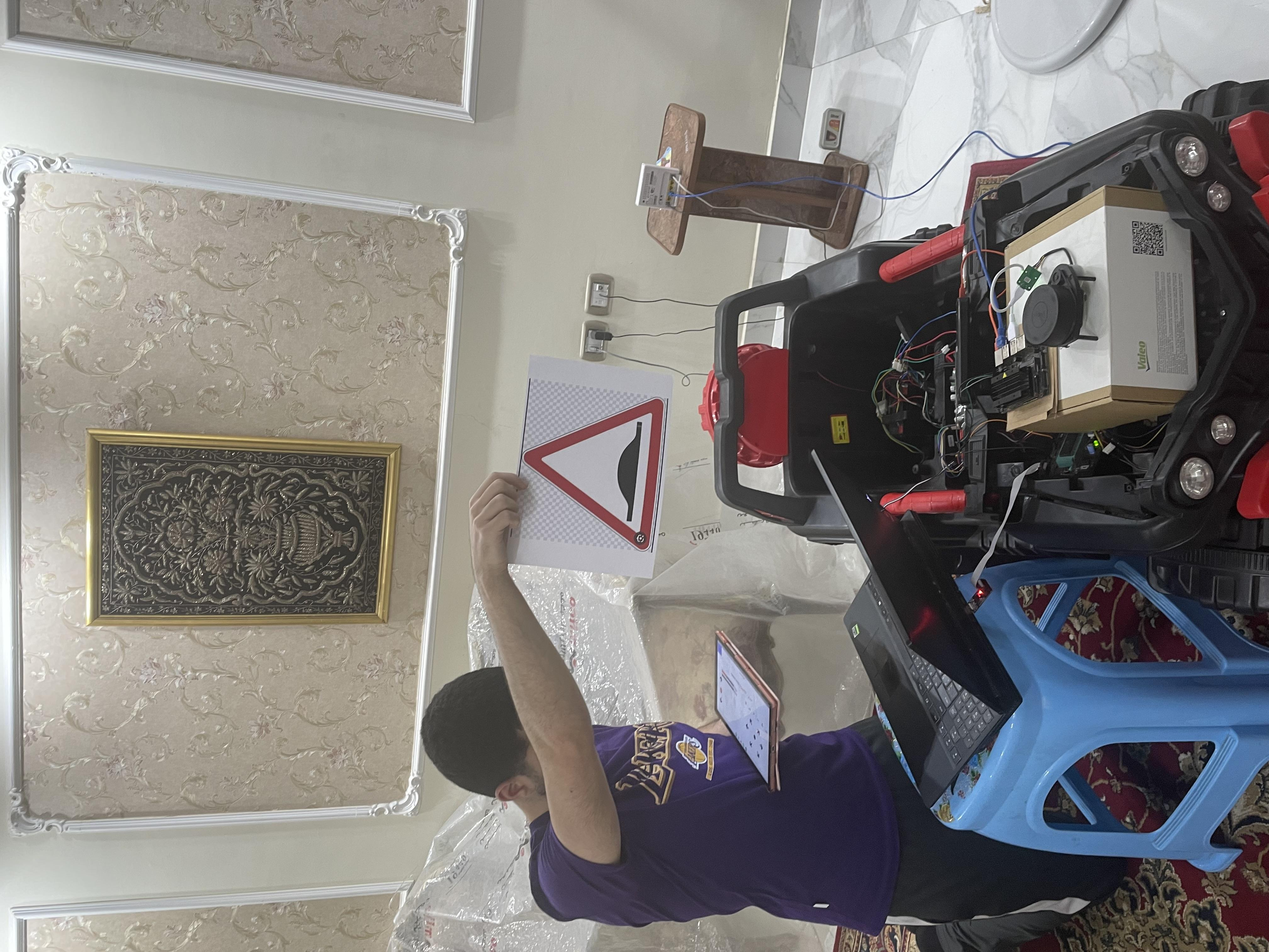Hump: (526, 395, 752, 496)
